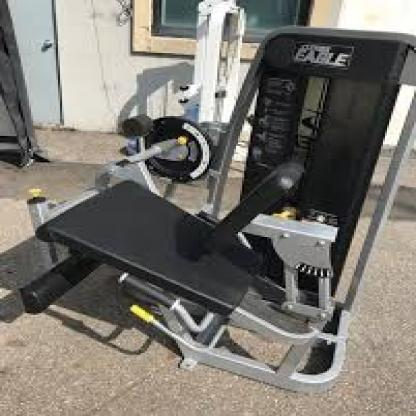leg extension: (7, 7, 416, 416)
